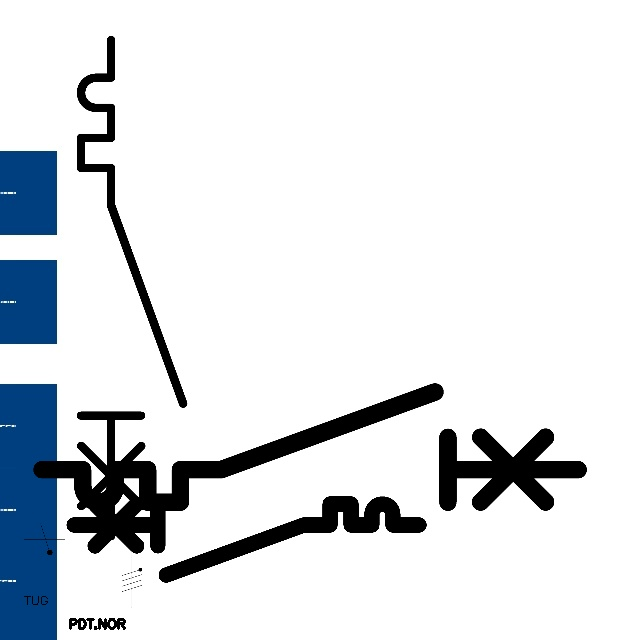interruptor_termomagnetico: (28, 378, 592, 516), (68, 27, 196, 549), (65, 495, 428, 584)
